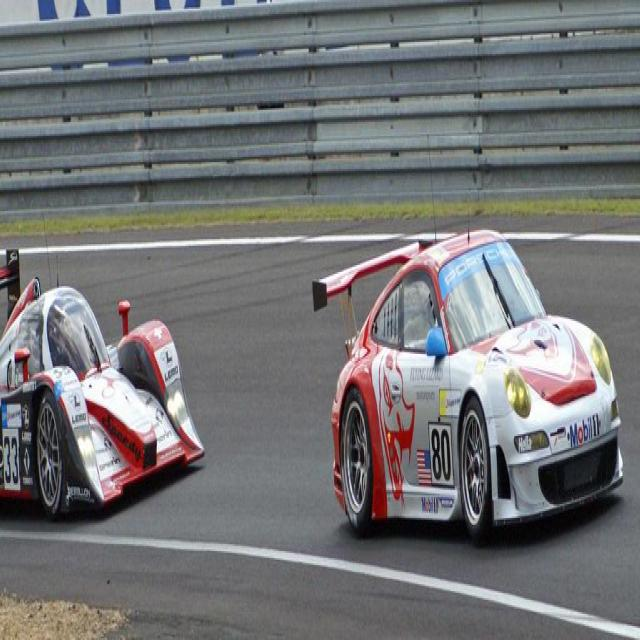car: (317, 225, 621, 544)
